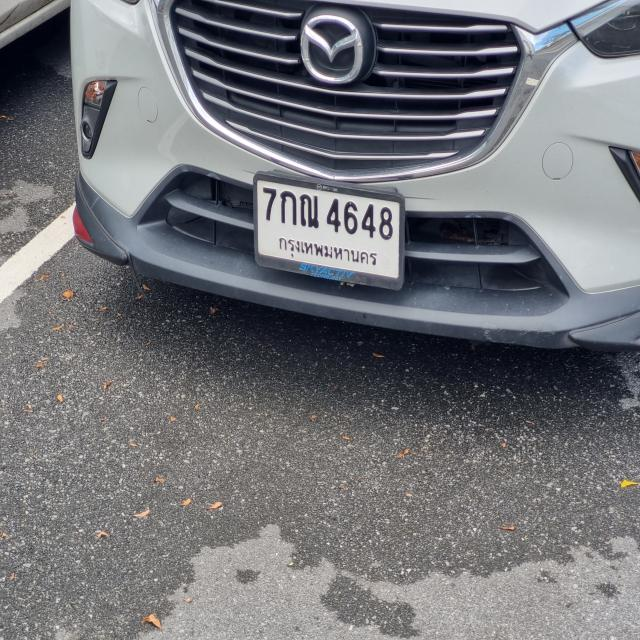license_plate: (252, 168, 408, 299)
